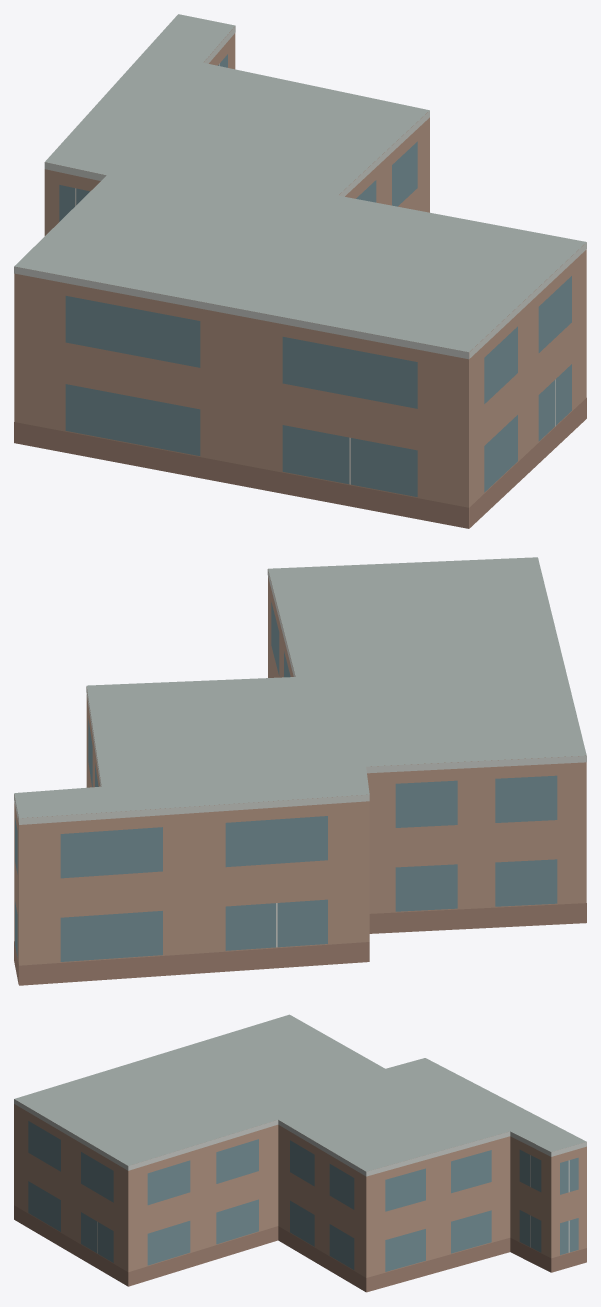
Rendered from survey-upis-32936426.glb.
The picture shows the model from 3 angles, top to bottom: view 1: azimuth 30°, elevation 25°; view 2: azimuth 150°, elevation 25°; view 3: azimuth 270°, elevation 25°; orthographic projection. The views are drawn at different scales.
Parts seen in each view (by area): view 1: survey-upis-32936426.tmp; view 2: survey-upis-32936426.tmp; view 3: survey-upis-32936426.tmp.
Boxes of the visible parts, x1,y1,x2,y2 form: survey-upis-32936426.tmp: [14, 14, 586, 528]; survey-upis-32936426.tmp: [14, 557, 586, 985]; survey-upis-32936426.tmp: [14, 1014, 586, 1292].
Bounding box in the file's own units: 17.06 × 6.1 × 26.26.
